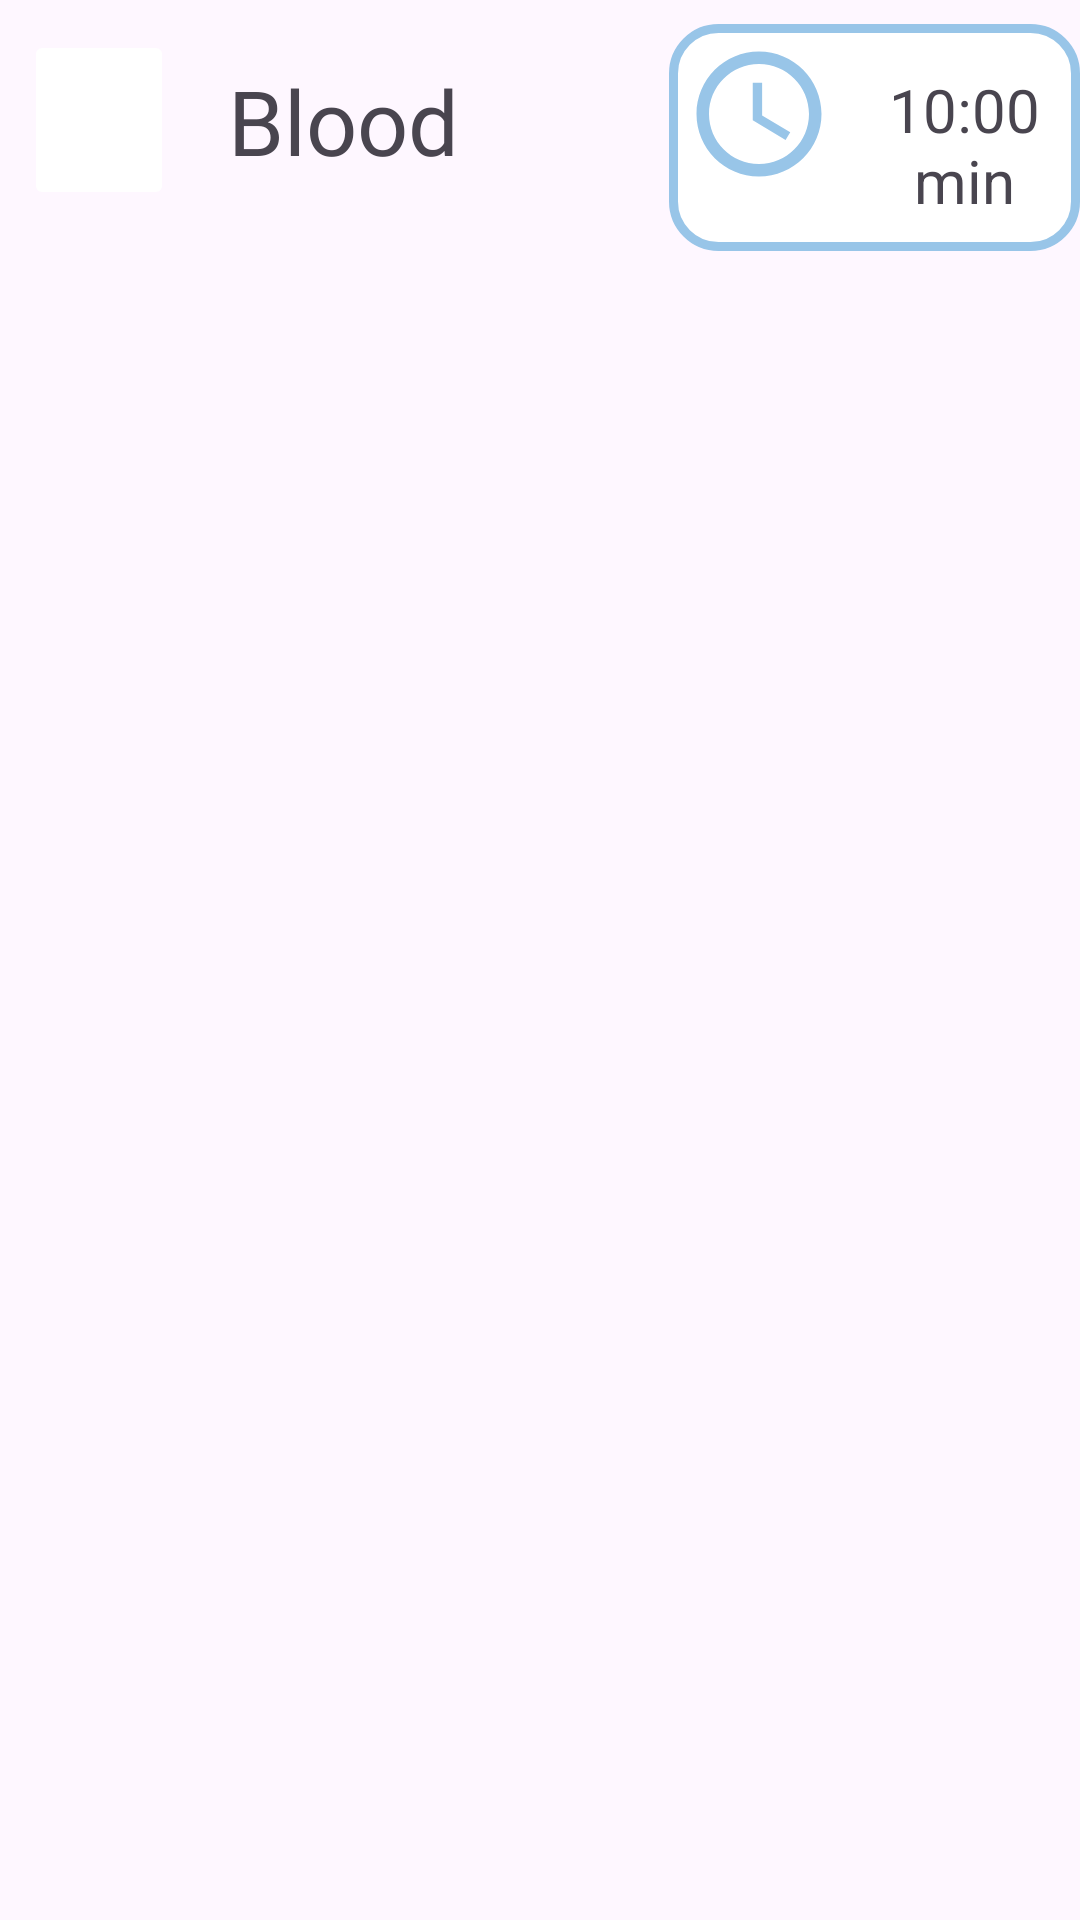

Icons on this 1080*1920 Android screen, each with the point to tap as point (x, y):
access time: point (759, 114)
